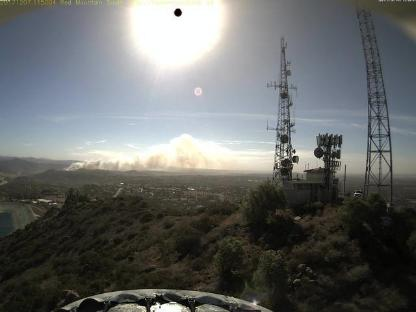smoke: (62, 133, 238, 173)
